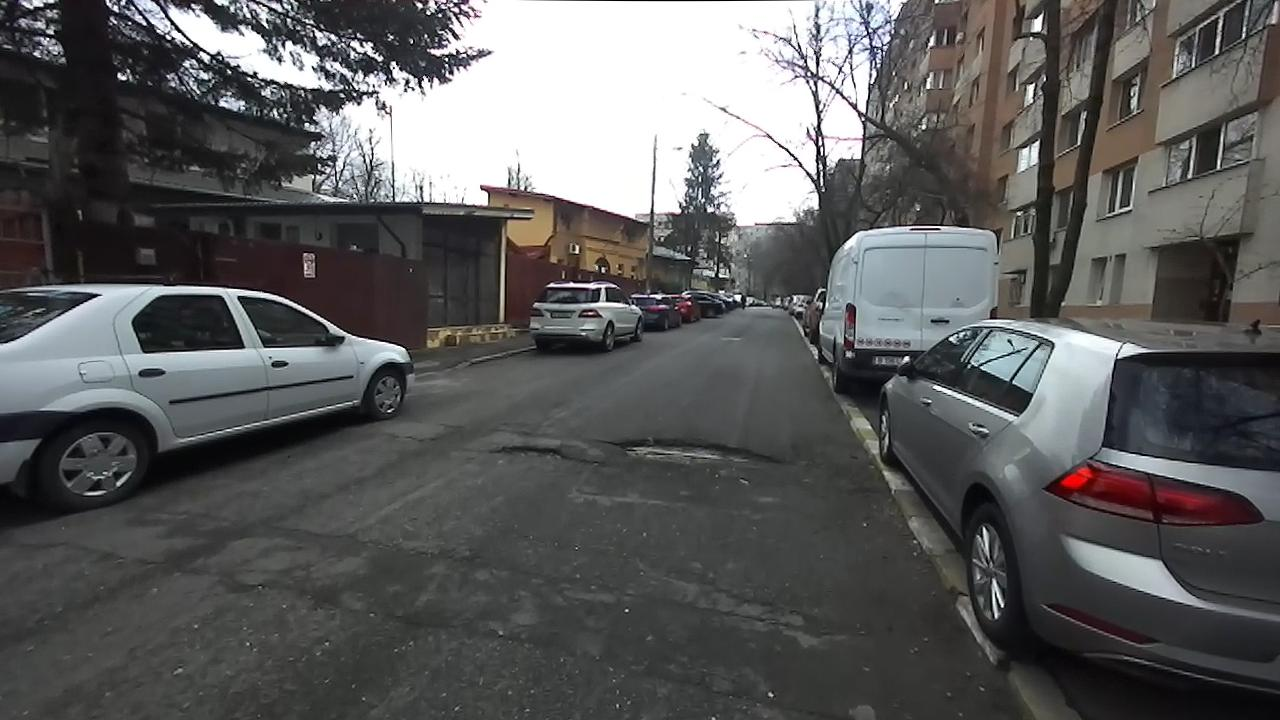pothole: (595, 435, 791, 471), (483, 442, 602, 466)
